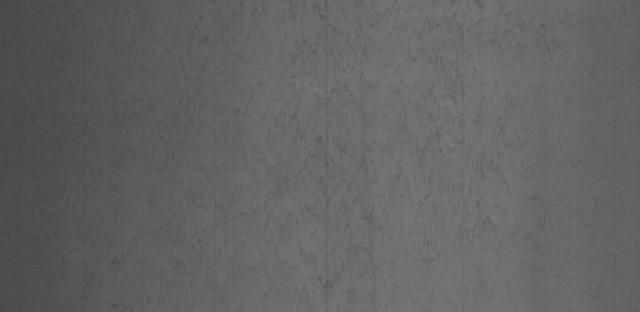silk_spot: (189, 29, 556, 300)
